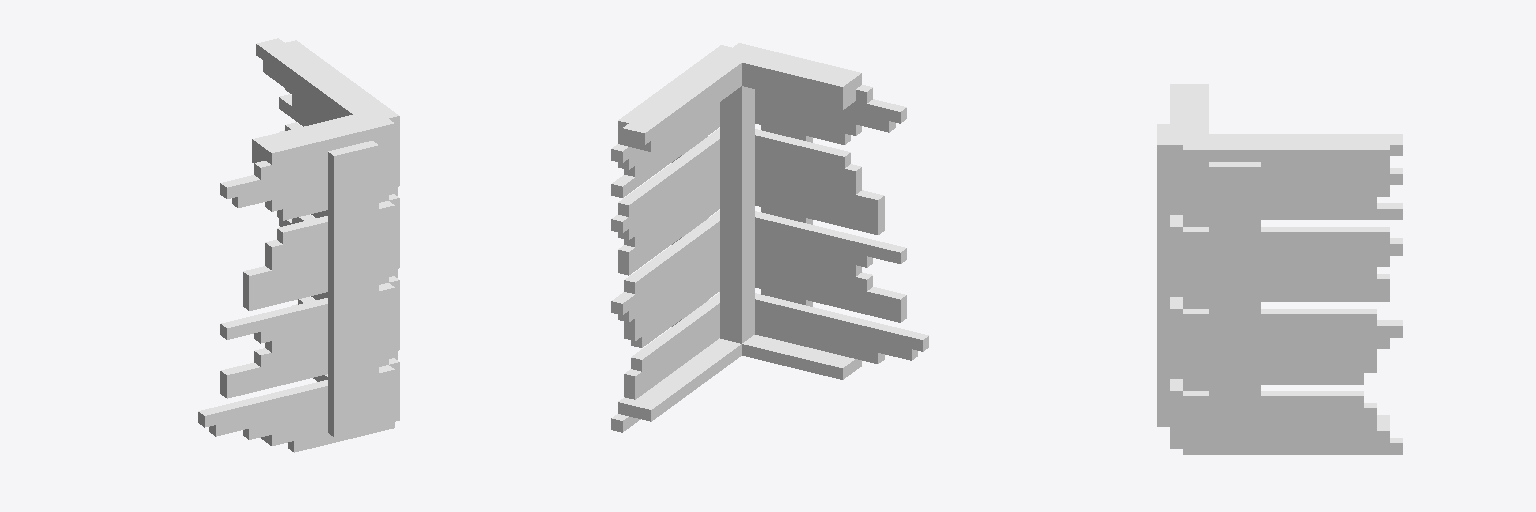
File: crate_broken-3-3.obj
The picture shows the model from 3 angles: view 1: azimuth 30°, elevation 25°; view 2: azimuth 150°, elevation 25°; view 3: azimuth 270°, elevation 25°; orthographic projection.
Parts seen in each view (by area): view 1: 3; view 2: 3; view 3: 3.
Part boxes in pixels (x1,y1,x2,y2): 3: (198,38,399,452); 3: (611,43,928,432); 3: (1157,84,1402,454).
Size of the model in its own units: 1.9 by 2.6 by 1.9.